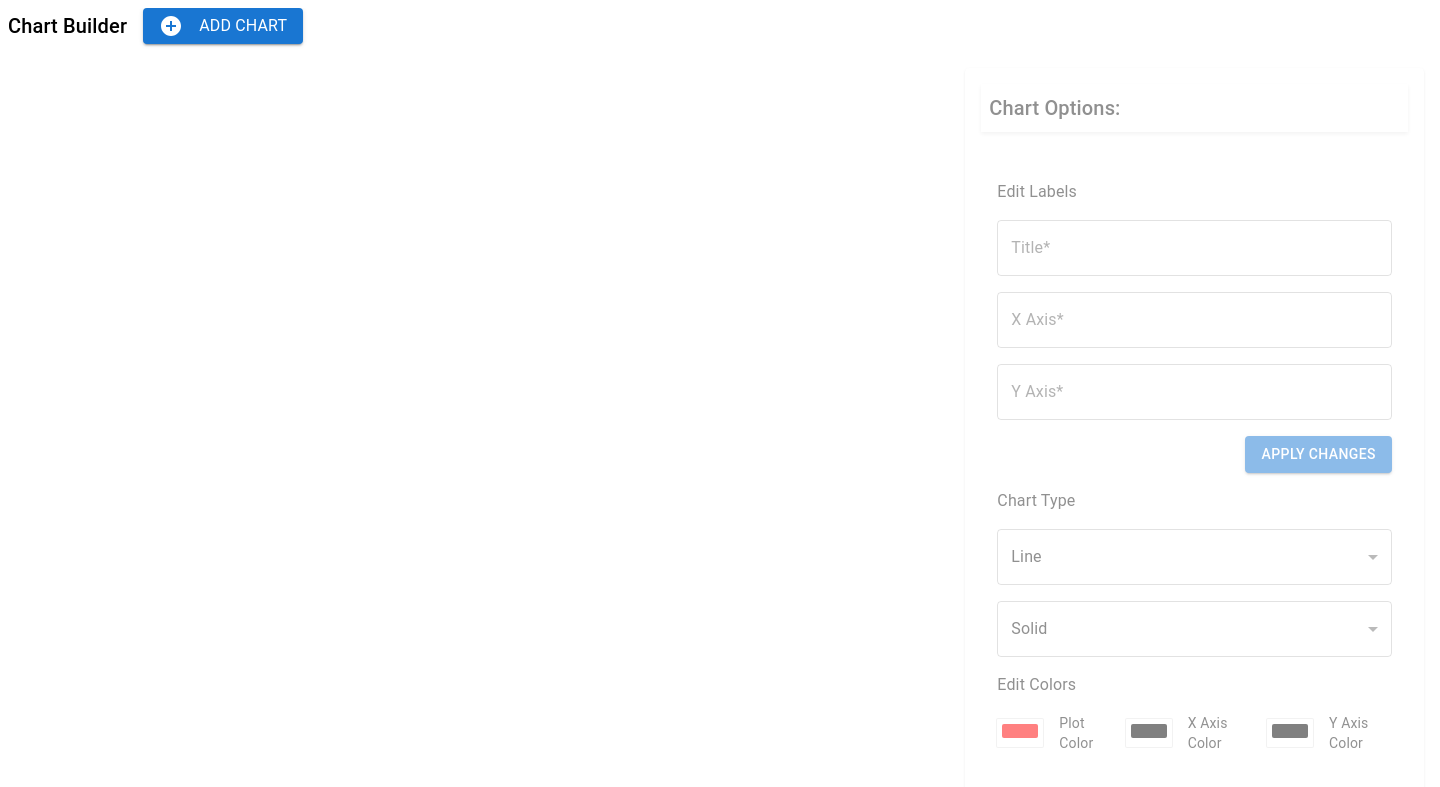
AddChart › shouldCloseDialog
Click the button "Add Chart" at (223, 26), box [143,8,303,44]
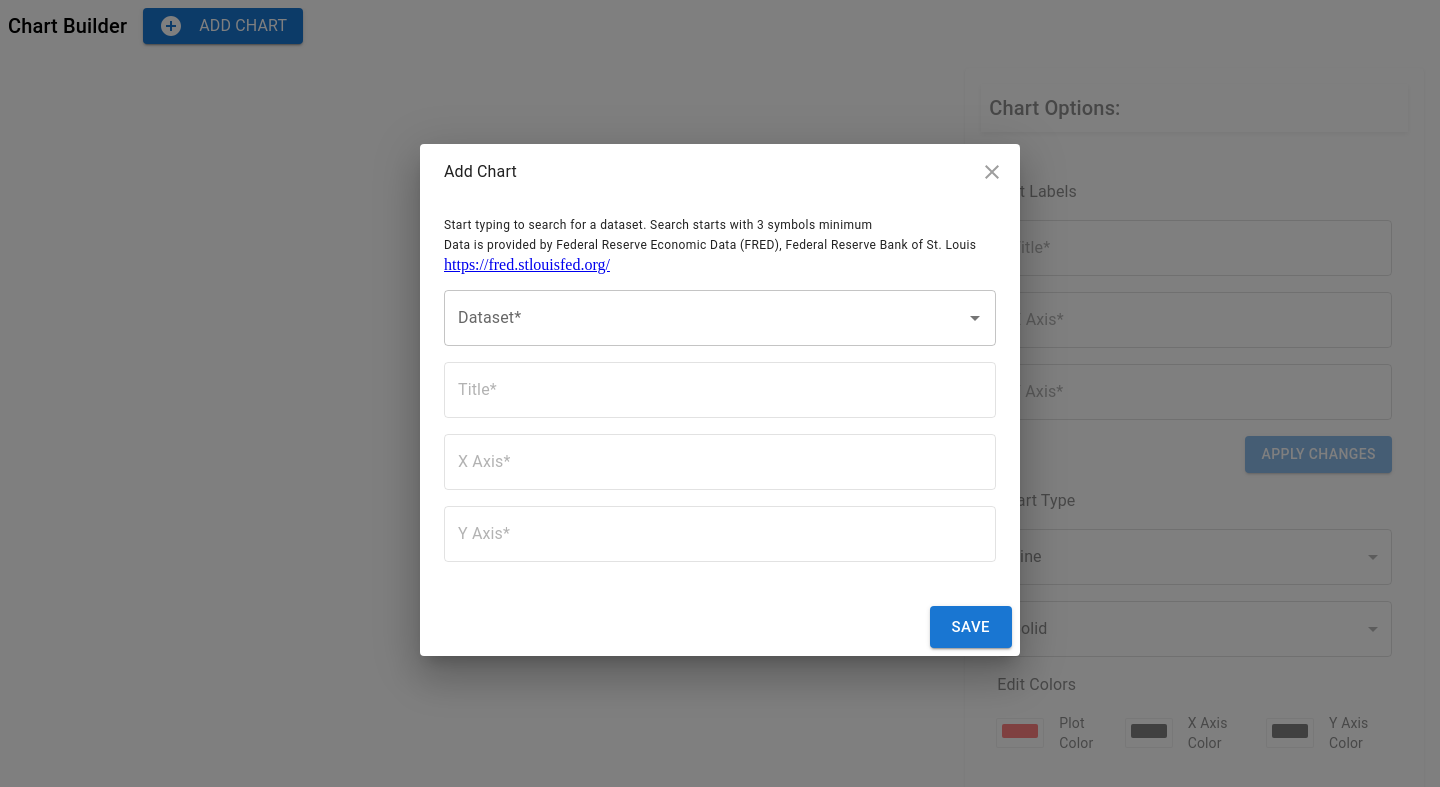
Expected: the text "Add Chart" is shown, [444,162,517,181]
Expected: the text "Start typing to search for a dataset. Search starts with 3 symbols minimum" is shown, [444,218,872,232]
Expected: the text "Data is provided by Federal Reserve Economic Data (FRED), Federal Reserve Bank of St. Louis" is shown, [444,238,976,252]
Click the element with test id "chartAutocomplete" at (720, 318), box [444,290,996,346]
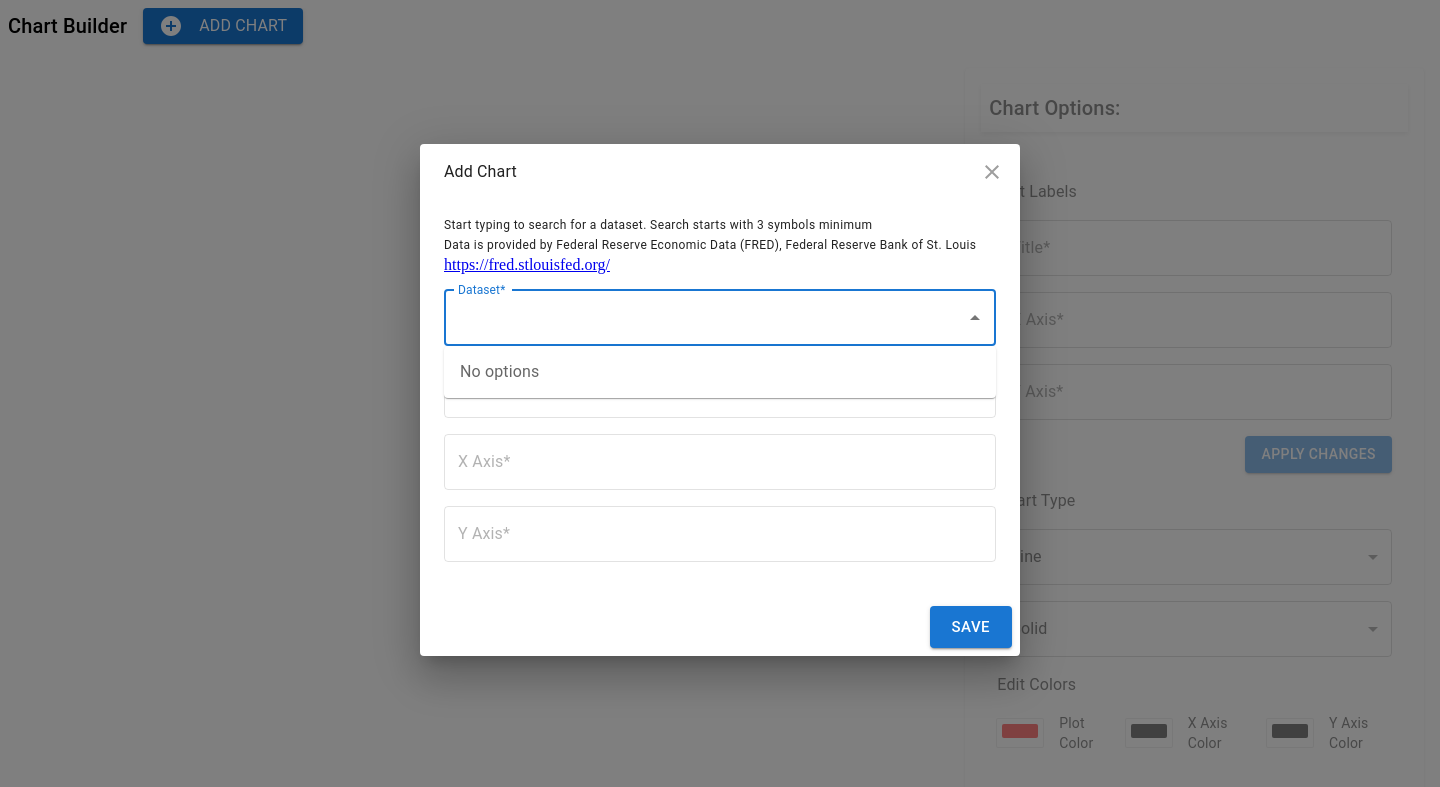
Type "Personal Saving Rate" into the element with test id "chartAutocomplete" at (720, 318), box [444,290,996,346]
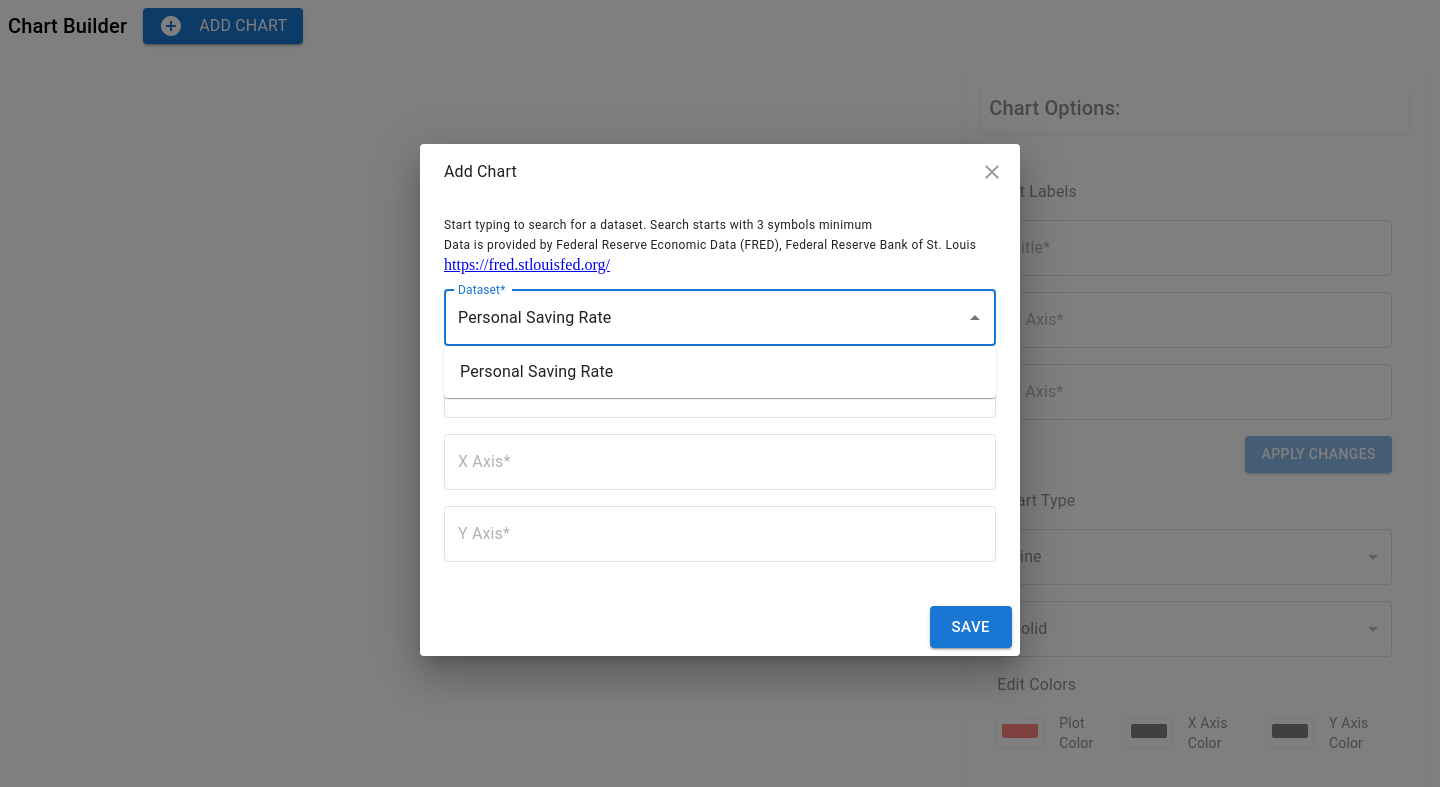
Click the option "Personal Saving Rate" at (537, 372), box [460,362,614,381]
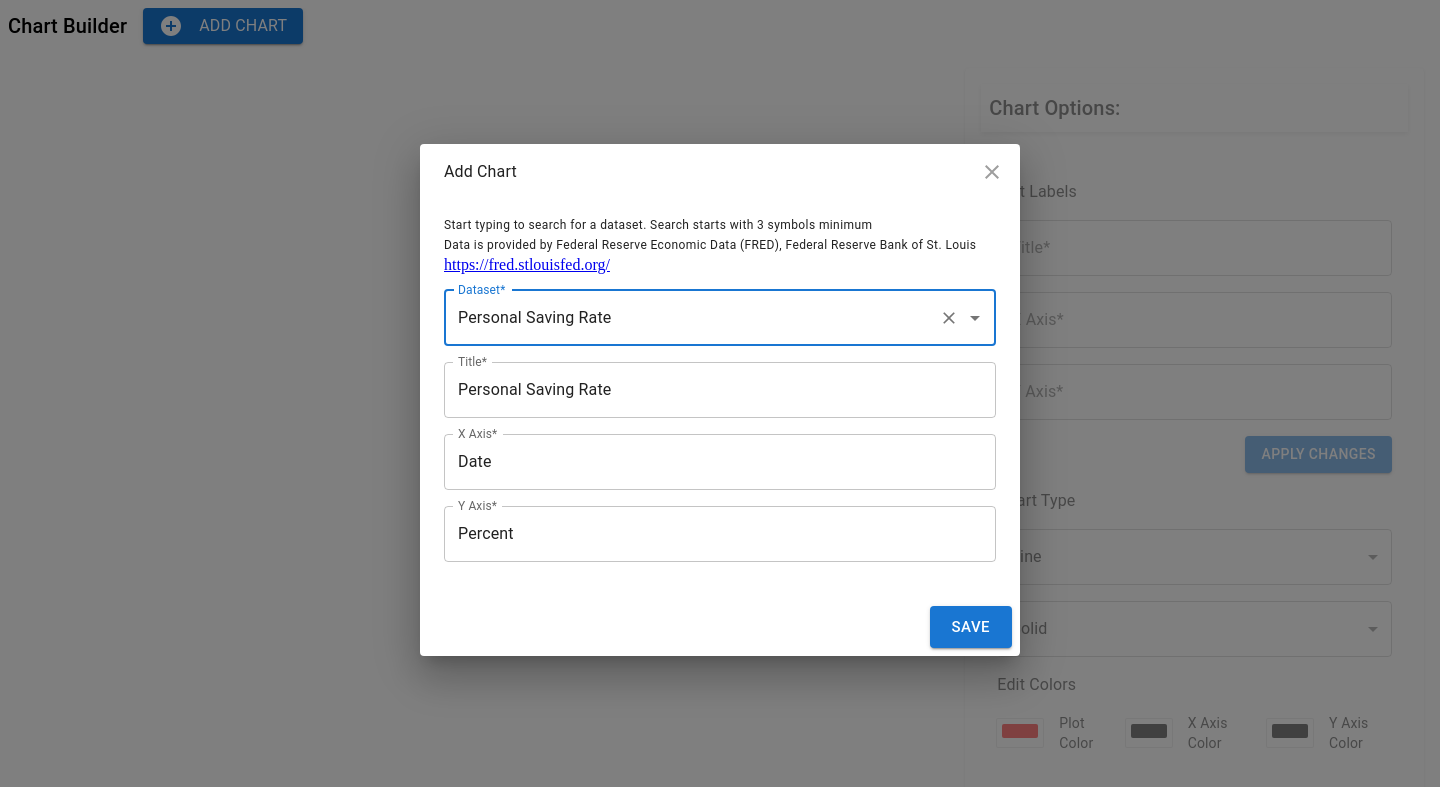
Click the icon with test id "CloseOutlinedIcon" at (992, 172), box [980,160,1004,184]
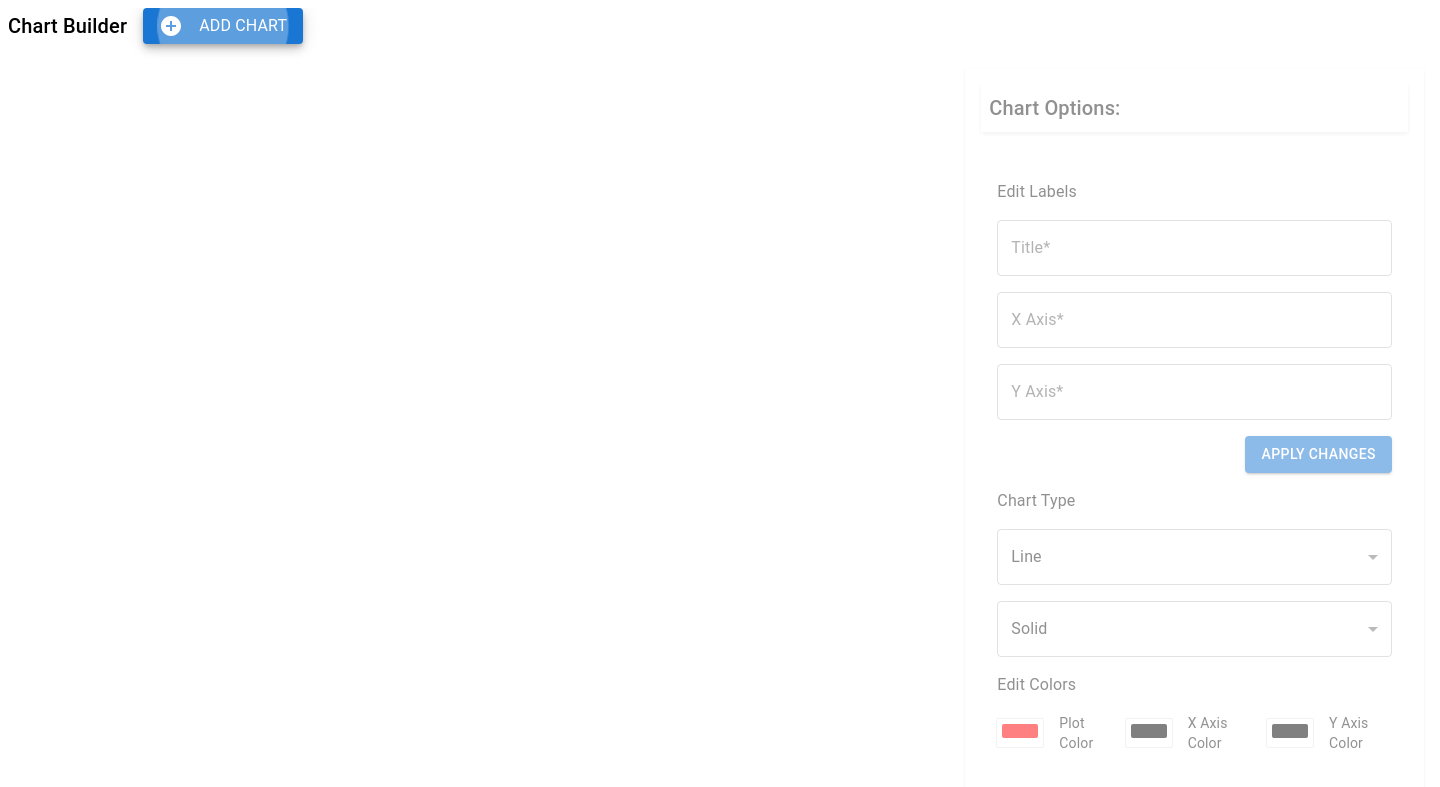
Expected: the dialog is gone
Click the button "Add Chart" at (223, 26), box [143,8,303,44]
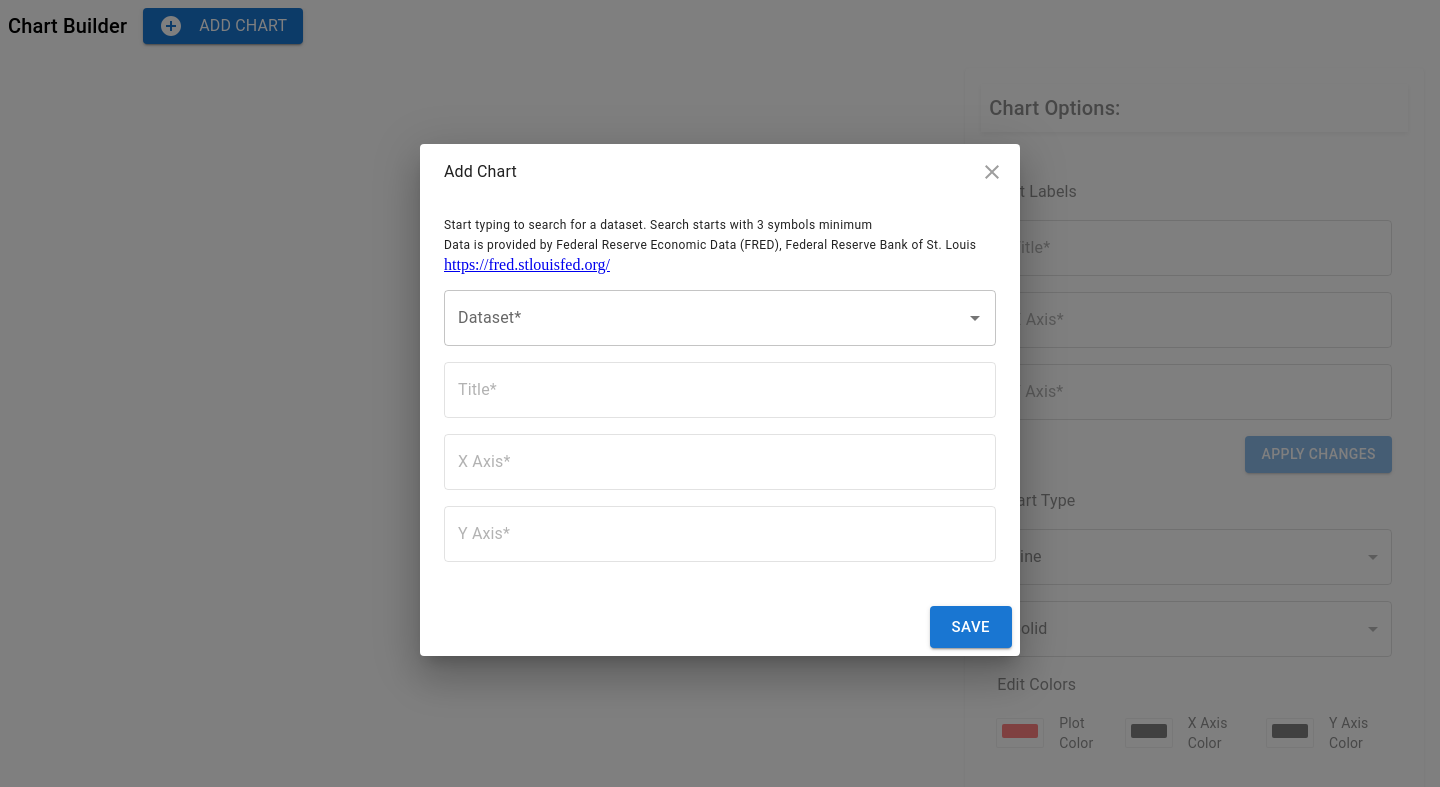
Expected: the text "Add Chart" is shown, [444,162,517,181]
Expected: the text "Start typing to search for a dataset. Search starts with 3 symbols minimum" is shown, [444,218,872,232]
Expected: the text "Data is provided by Federal Reserve Economic Data (FRED), Federal Reserve Bank of St. Louis" is shown, [444,238,976,252]
